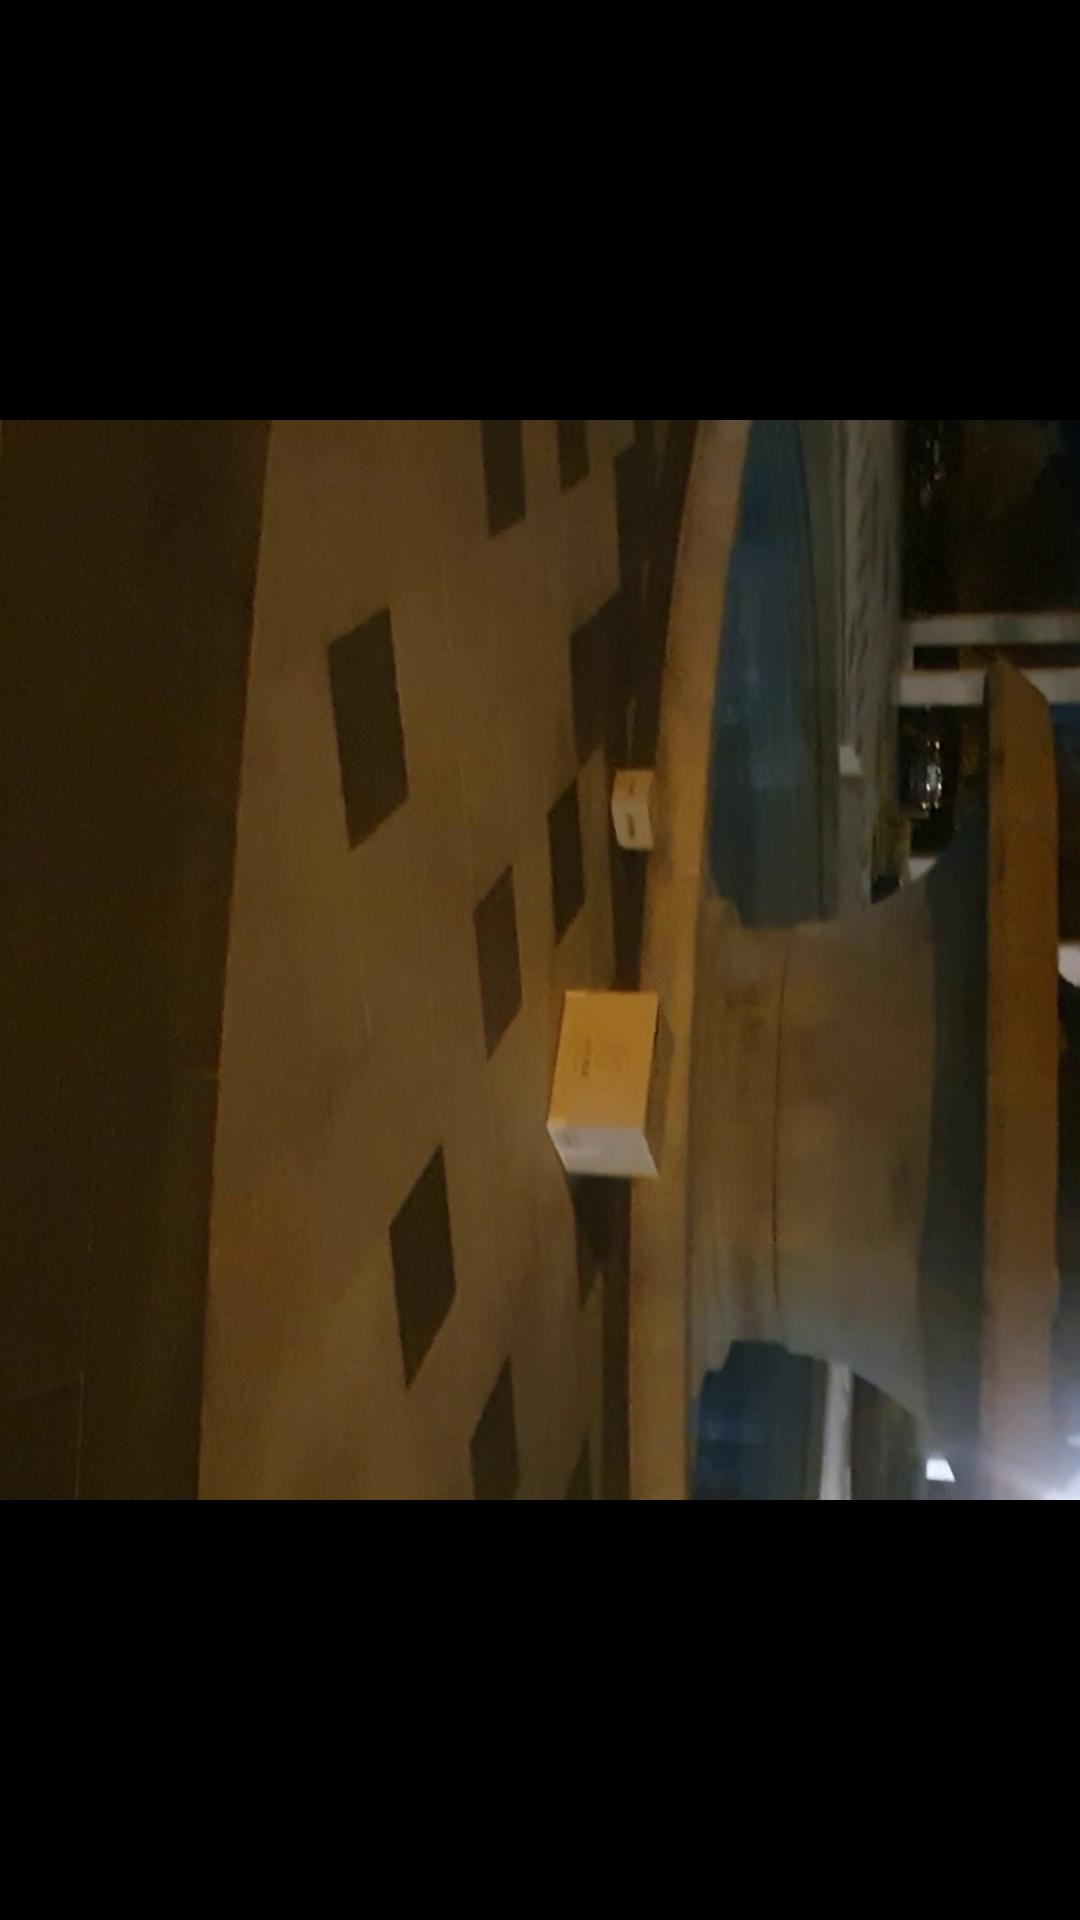Box: (543, 981, 680, 1180), (603, 766, 665, 860)
